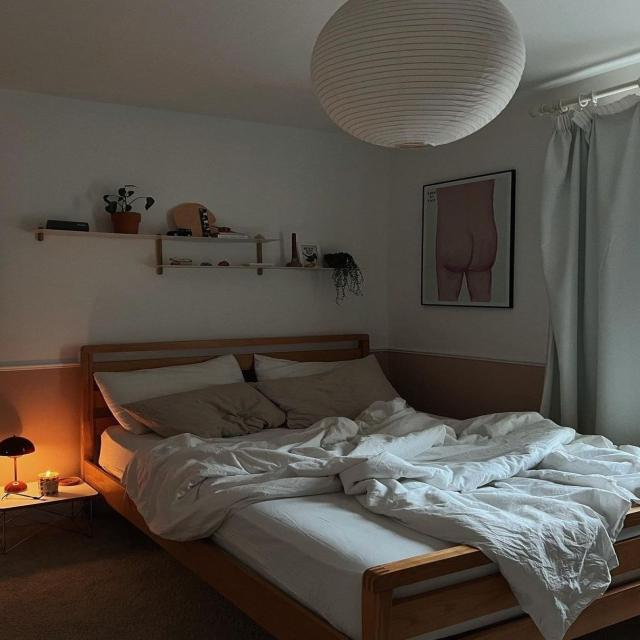bed: (74, 342, 639, 640)
